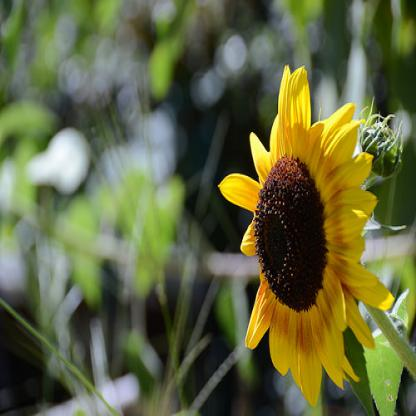SUN FLOWER: (208, 51, 407, 411)
